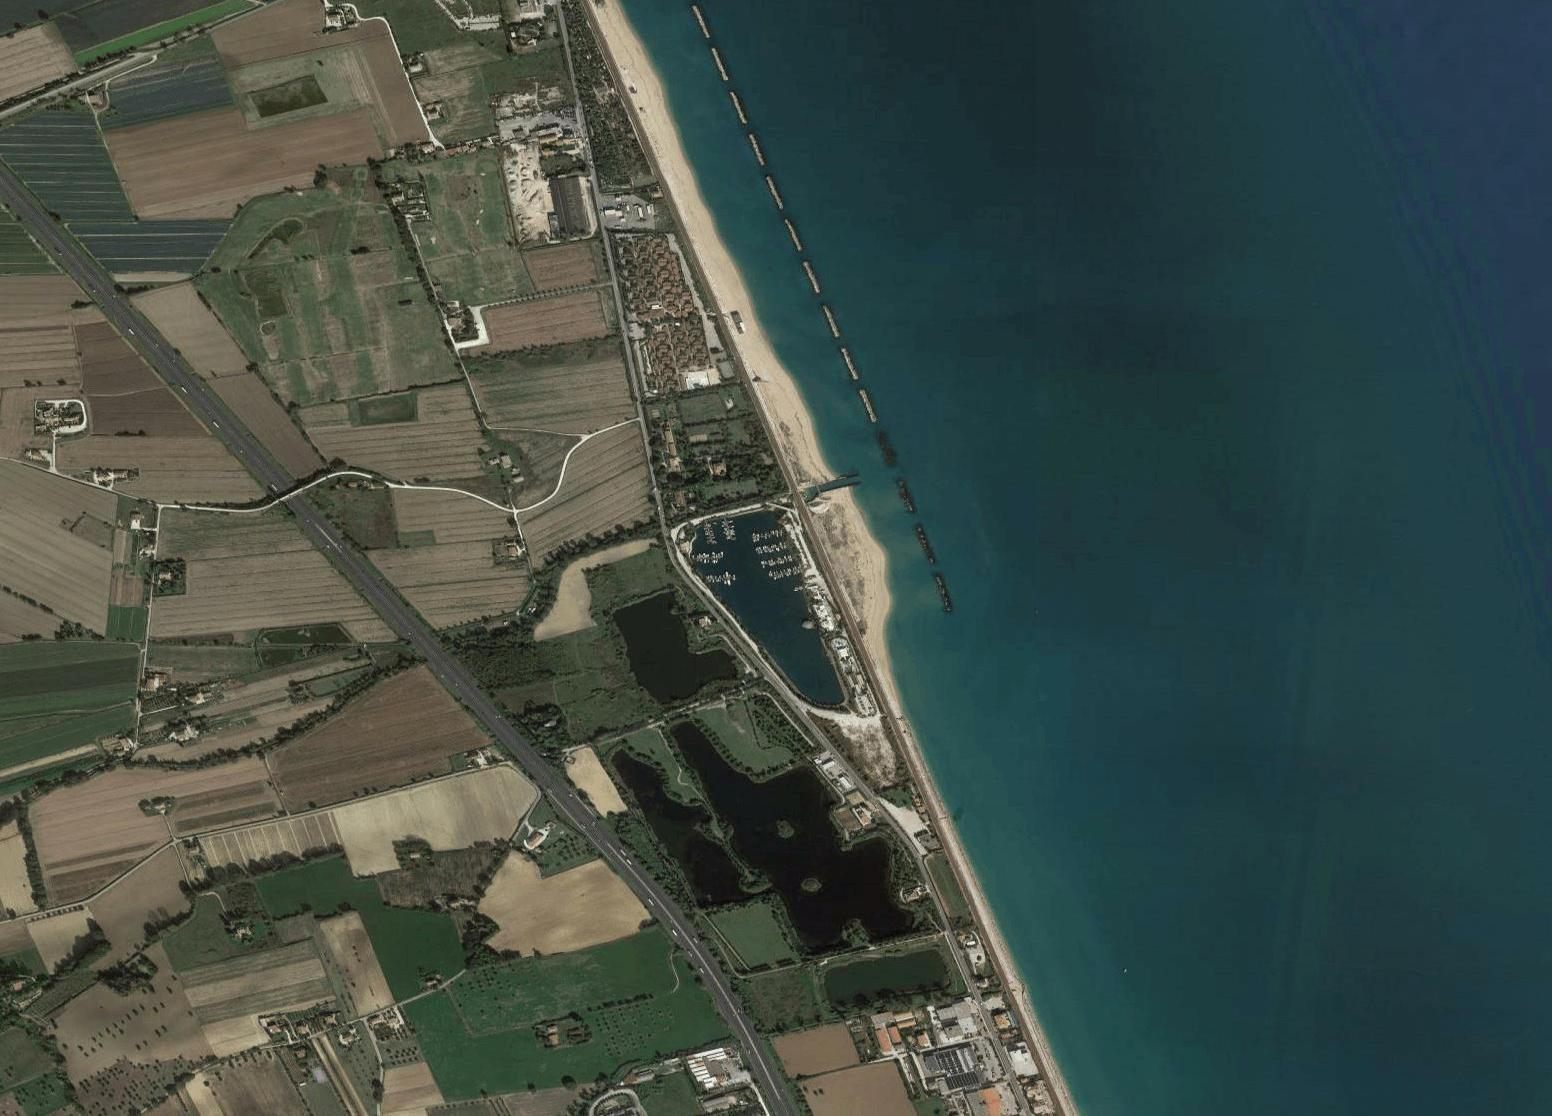harbor: (680, 481, 895, 719)
motorway: (647, 900, 809, 1116), (153, 348, 322, 541), (321, 525, 489, 718), (489, 712, 658, 905), (1, 154, 169, 347)
